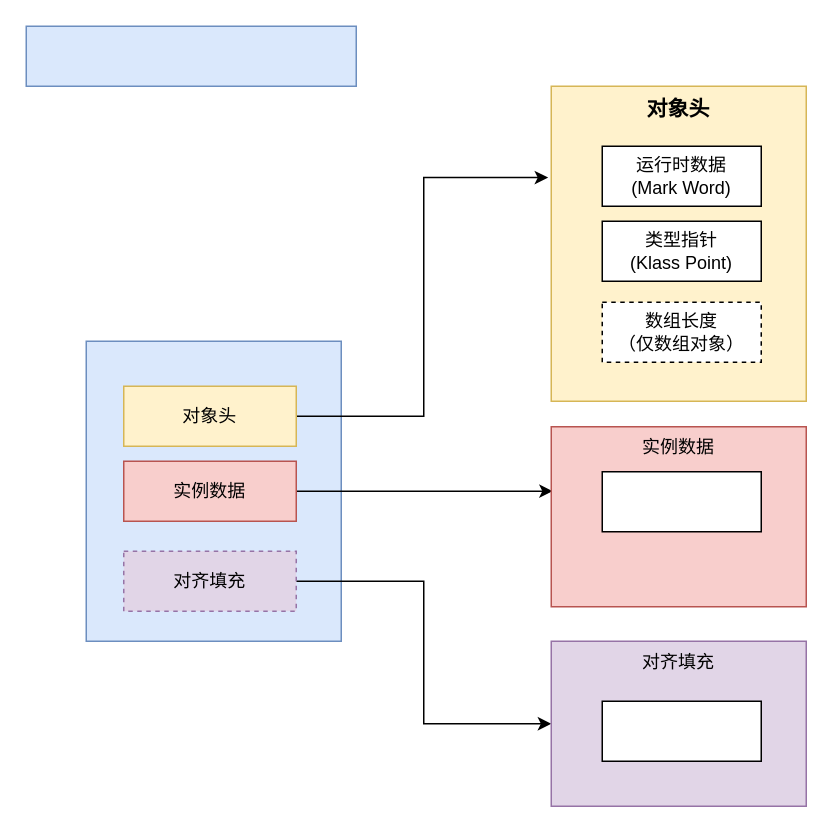
Some shapes in this 833 by 833 pixel diagram are drawn without their labels. Each missing label, with the box of its shape:
HotSpot虚拟机的对象内存布局: (25, 25, 356, 86)
字段内容 （含父类）: (601, 470, 761, 532)
对象实例: (85, 340, 341, 641)
无意义，仅为补齐为8字节整数倍: (601, 700, 761, 761)
